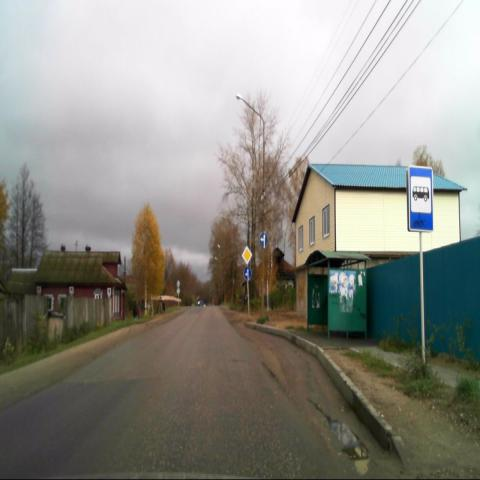5_16: (408, 165, 434, 232)
